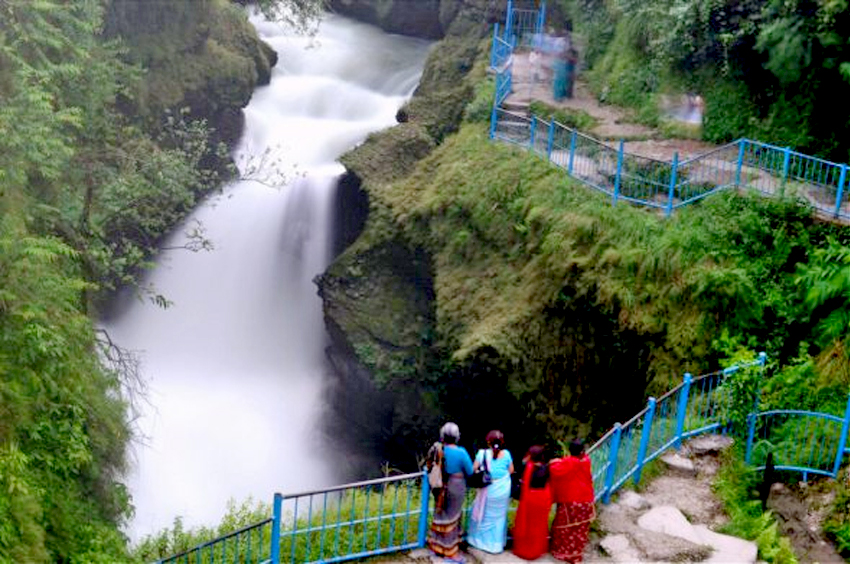human: (412, 410, 471, 564), (539, 433, 598, 564), (469, 429, 521, 553), (518, 439, 550, 564)
